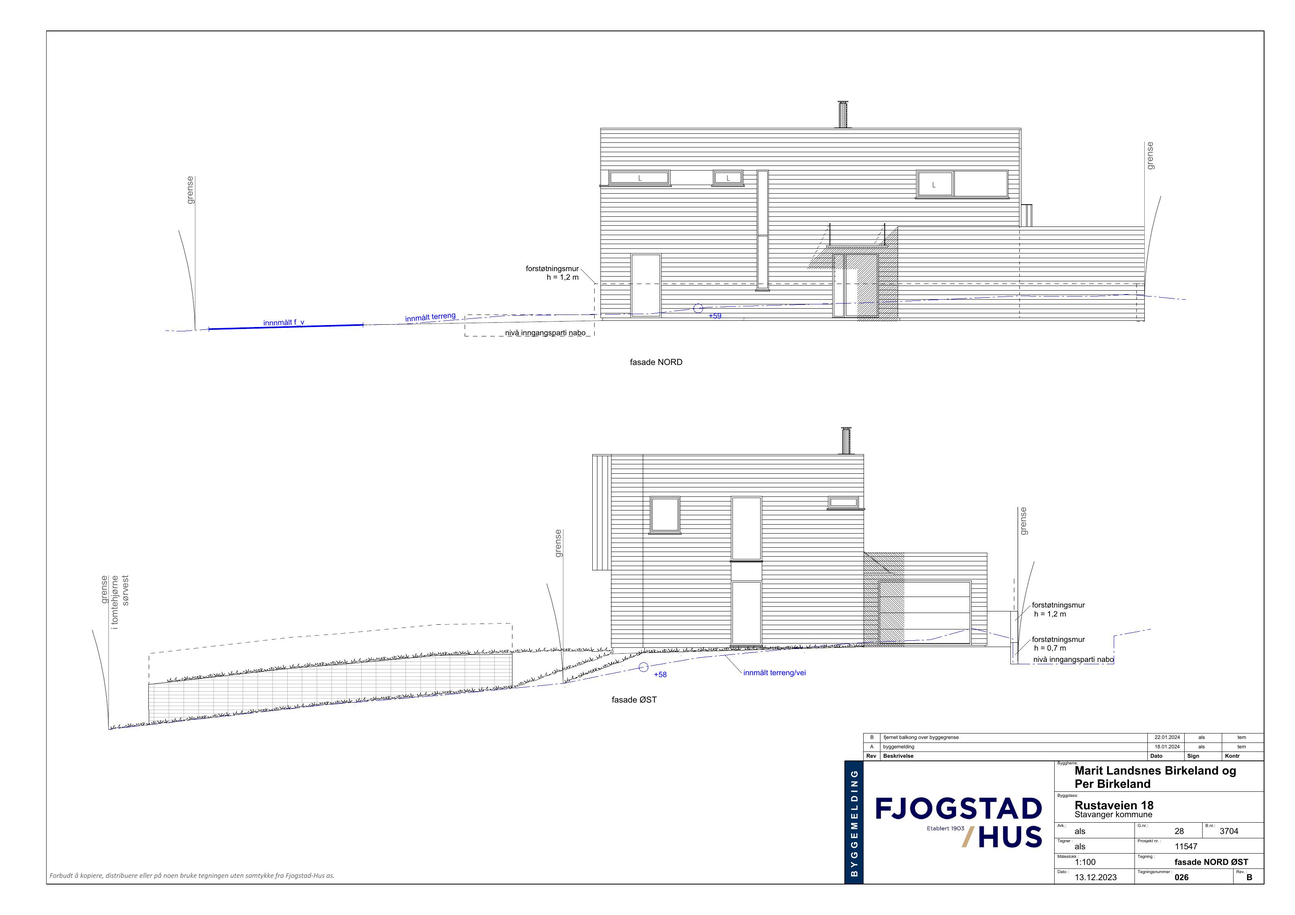fasade: (601, 101, 1145, 316), (595, 428, 988, 646)
